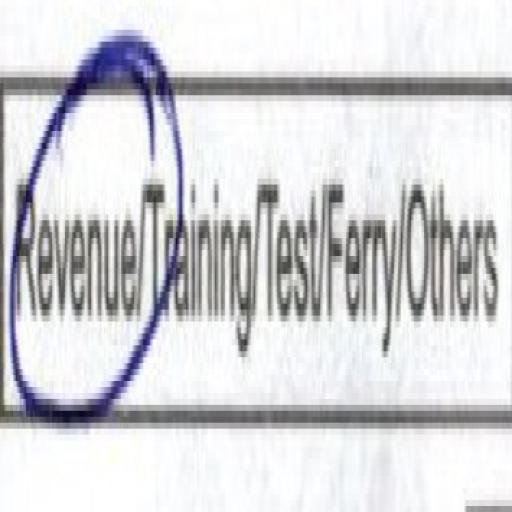check: (0, 12, 143, 452)
